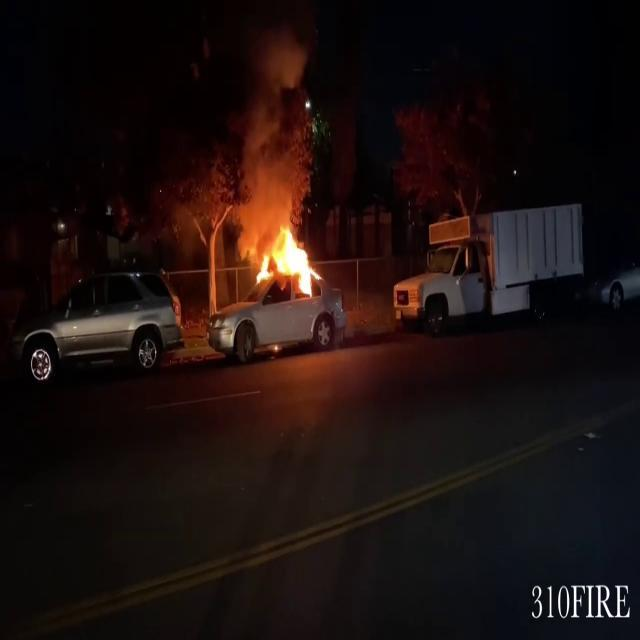Fire: (252, 214, 328, 300)
Smoke: (235, 21, 316, 222)
